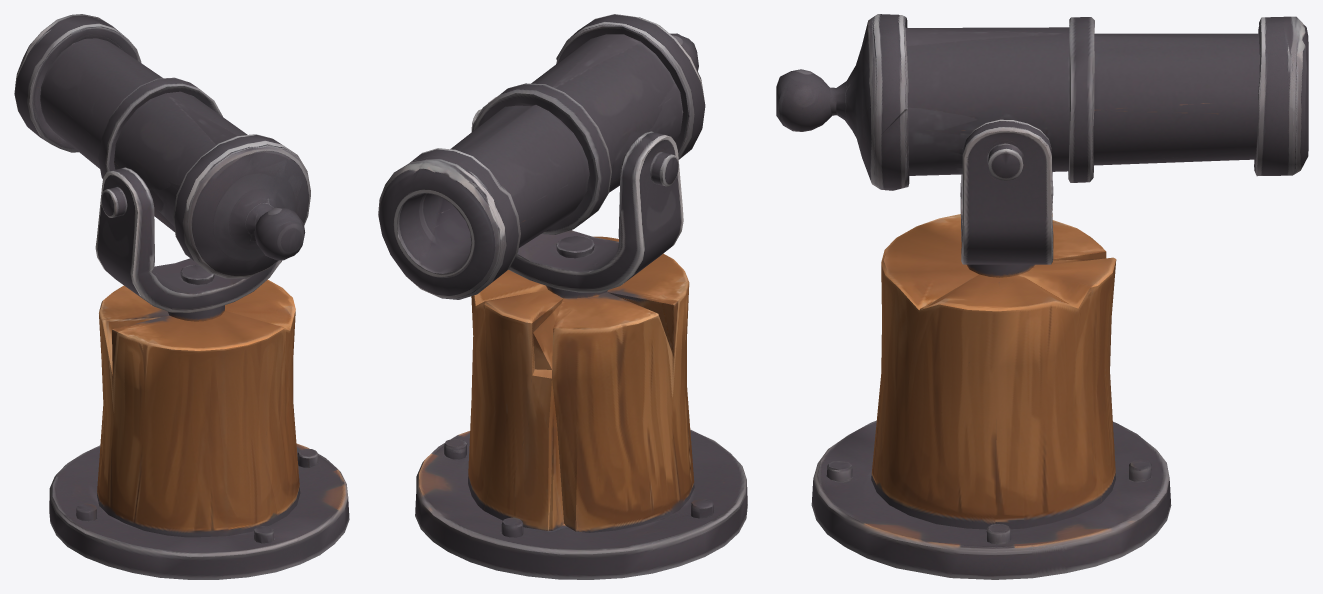
Rendered from cannon-b-3000.glb.
3 renders of one model, left to right at view 1: azimuth 30°, elevation 25°; view 2: azimuth 150°, elevation 25°; view 3: azimuth 270°, elevation 25°, orthographic. The views are drawn at different scales.
Parts seen in each view (by area): view 1: mount, barrel; view 2: mount, barrel; view 3: mount, barrel.
Part boxes in pixels (left/top/right/bottom): mount: left=49, top=167, right=349, bottom=579; barrel: left=14, top=14, right=310, bottom=284; mount: left=415, top=97, right=747, bottom=579; barrel: left=378, top=14, right=705, bottom=299; mount: left=811, top=119, right=1171, bottom=579; barrel: left=776, top=14, right=1308, bottom=190.
Size of the model in its own units: 0.6677 by 0.9997 by 1.
Materials: 1 (1 with a texture image).
